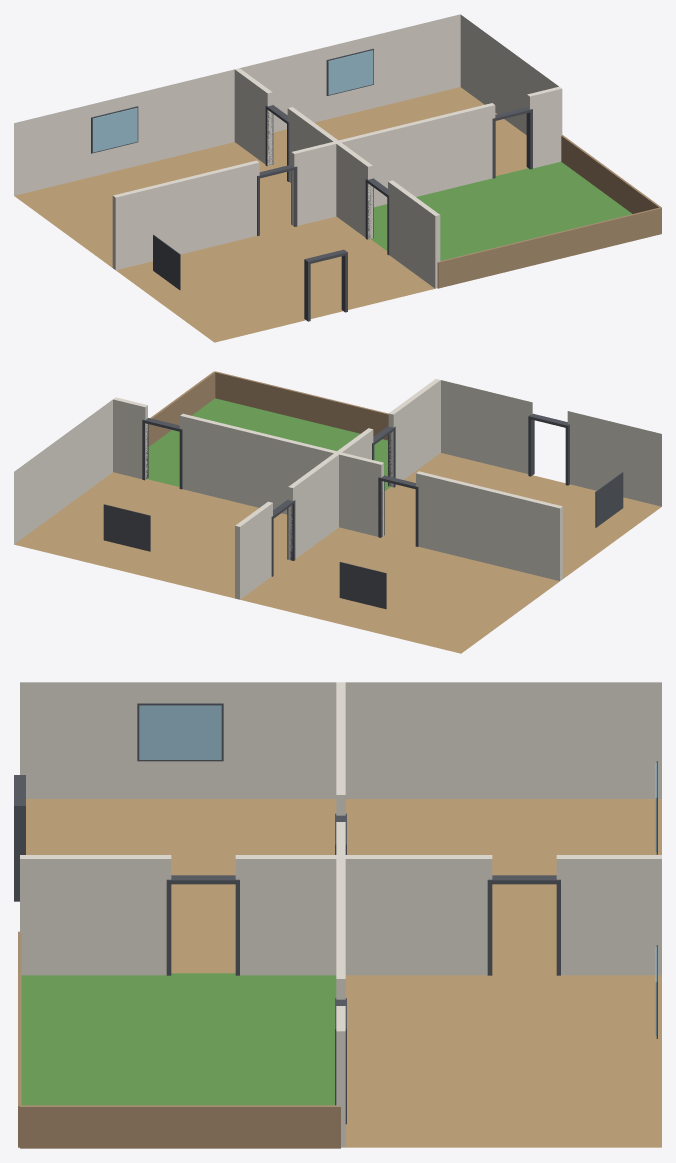
3 views of the same model, one above another, from view 1: azimuth 30°, elevation 25°; view 2: azimuth 150°, elevation 25°; view 3: azimuth 270°, elevation 25° (orthographic). The views are drawn at different scales.
Parts seen in each view (by area): view 1: wall, floor, grass, fence, frame, glass; view 2: wall, floor, frame, fence, grass; view 3: wall, floor, grass, fence, frame, glass.
Boxes of the visible parts, bbox=[...] form: wall: bbox=[14, 14, 562, 288]; floor: bbox=[14, 87, 527, 342]; grass: bbox=[371, 161, 632, 260]; fence: bbox=[437, 135, 661, 288]; frame: bbox=[91, 48, 532, 321]; glass: bbox=[92, 50, 373, 152]; wall: bbox=[14, 379, 661, 599]; floor: bbox=[14, 453, 661, 653]; frame: bbox=[103, 413, 623, 609]; fence: bbox=[148, 371, 388, 446]; grass: bbox=[147, 398, 390, 490]; wall: bbox=[20, 682, 661, 1147]; floor: bbox=[26, 799, 661, 1147]; grass: bbox=[21, 973, 336, 1105]; fence: bbox=[18, 931, 340, 1148]; frame: bbox=[14, 703, 657, 1124]; glass: bbox=[139, 705, 656, 1036].
Size of the model in its own units: 18.04 by 2.8 by 14.13.
